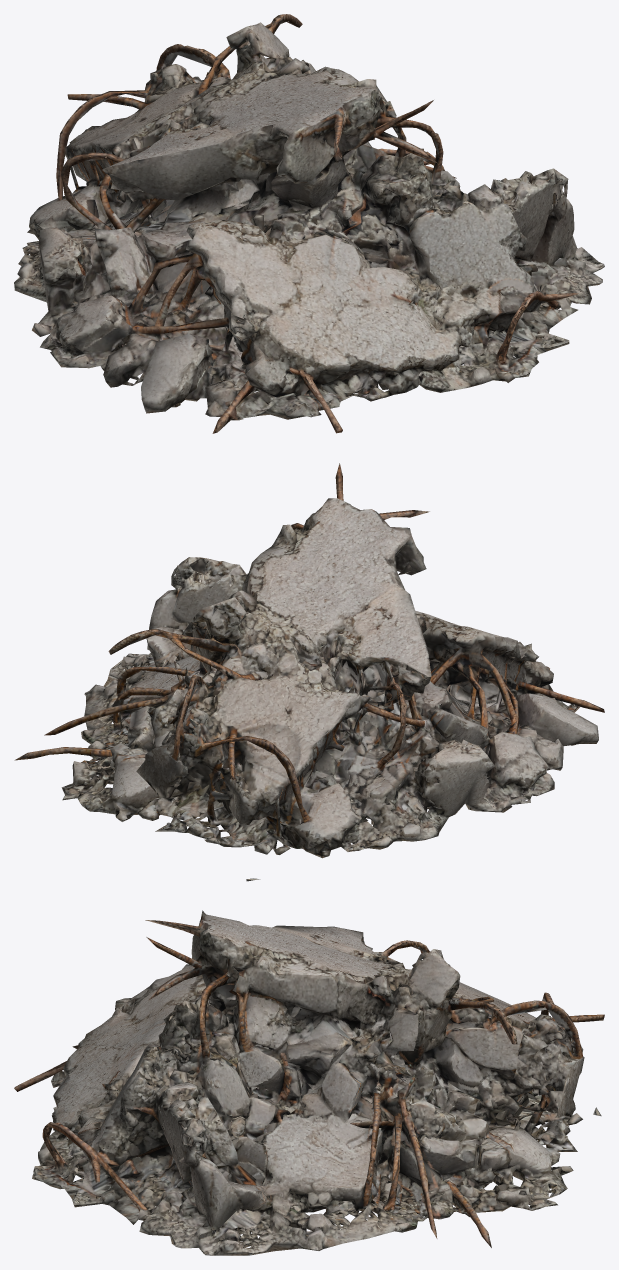
The model's file is BKI_RubbleA.fbx.
The picture shows the model from 3 angles, top to bottom: view 1: azimuth 30°, elevation 25°; view 2: azimuth 150°, elevation 25°; view 3: azimuth 270°, elevation 25°; orthographic projection. The views are drawn at different scales.
Parts seen in each view (by area): view 1: texture_mapping; view 2: texture_mapping; view 3: texture_mapping.
Part boxes in pixels (bbox=[...]): texture_mapping: bbox=[14, 14, 604, 433]; texture_mapping: bbox=[14, 463, 604, 881]; texture_mapping: bbox=[14, 910, 604, 1255].
Bounding box in the file's own units: 0.9357 × 0.9976 × 0.4527.
1 material, 1 textured.
